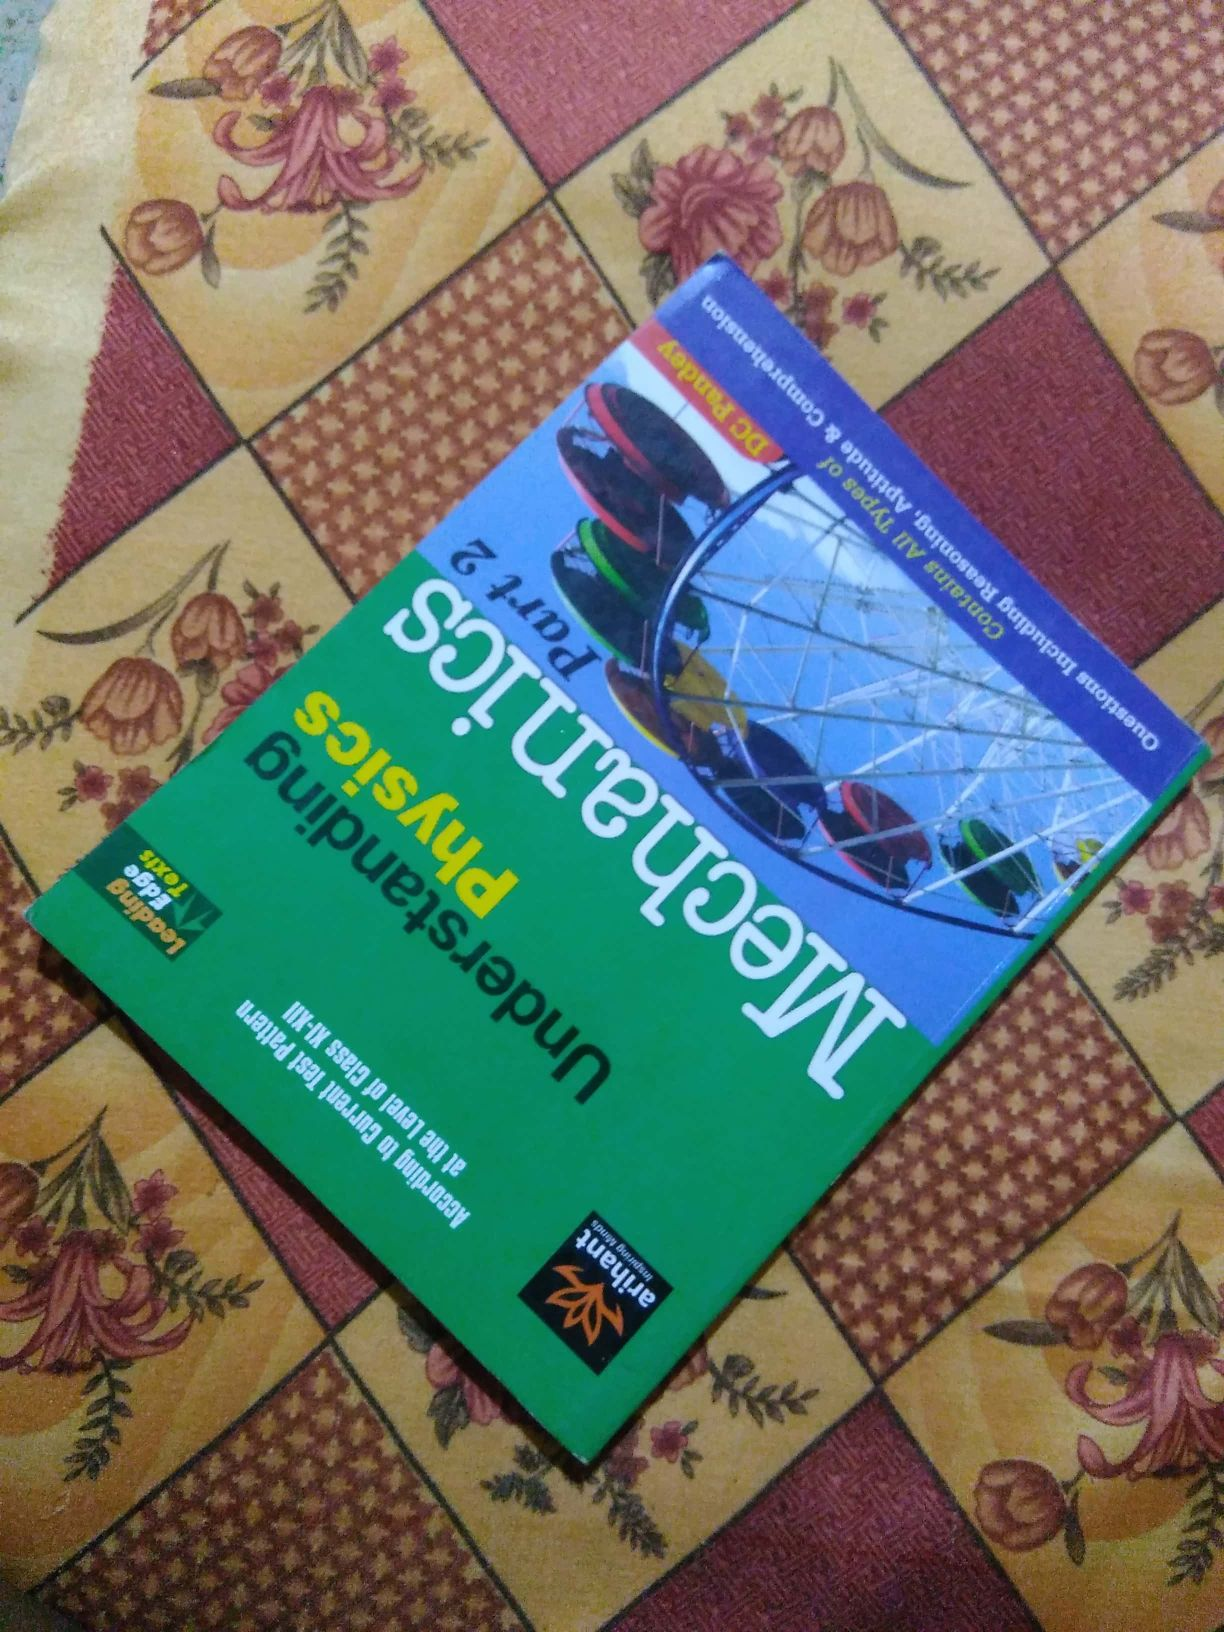mechanics: (192, 350, 1166, 1390)
